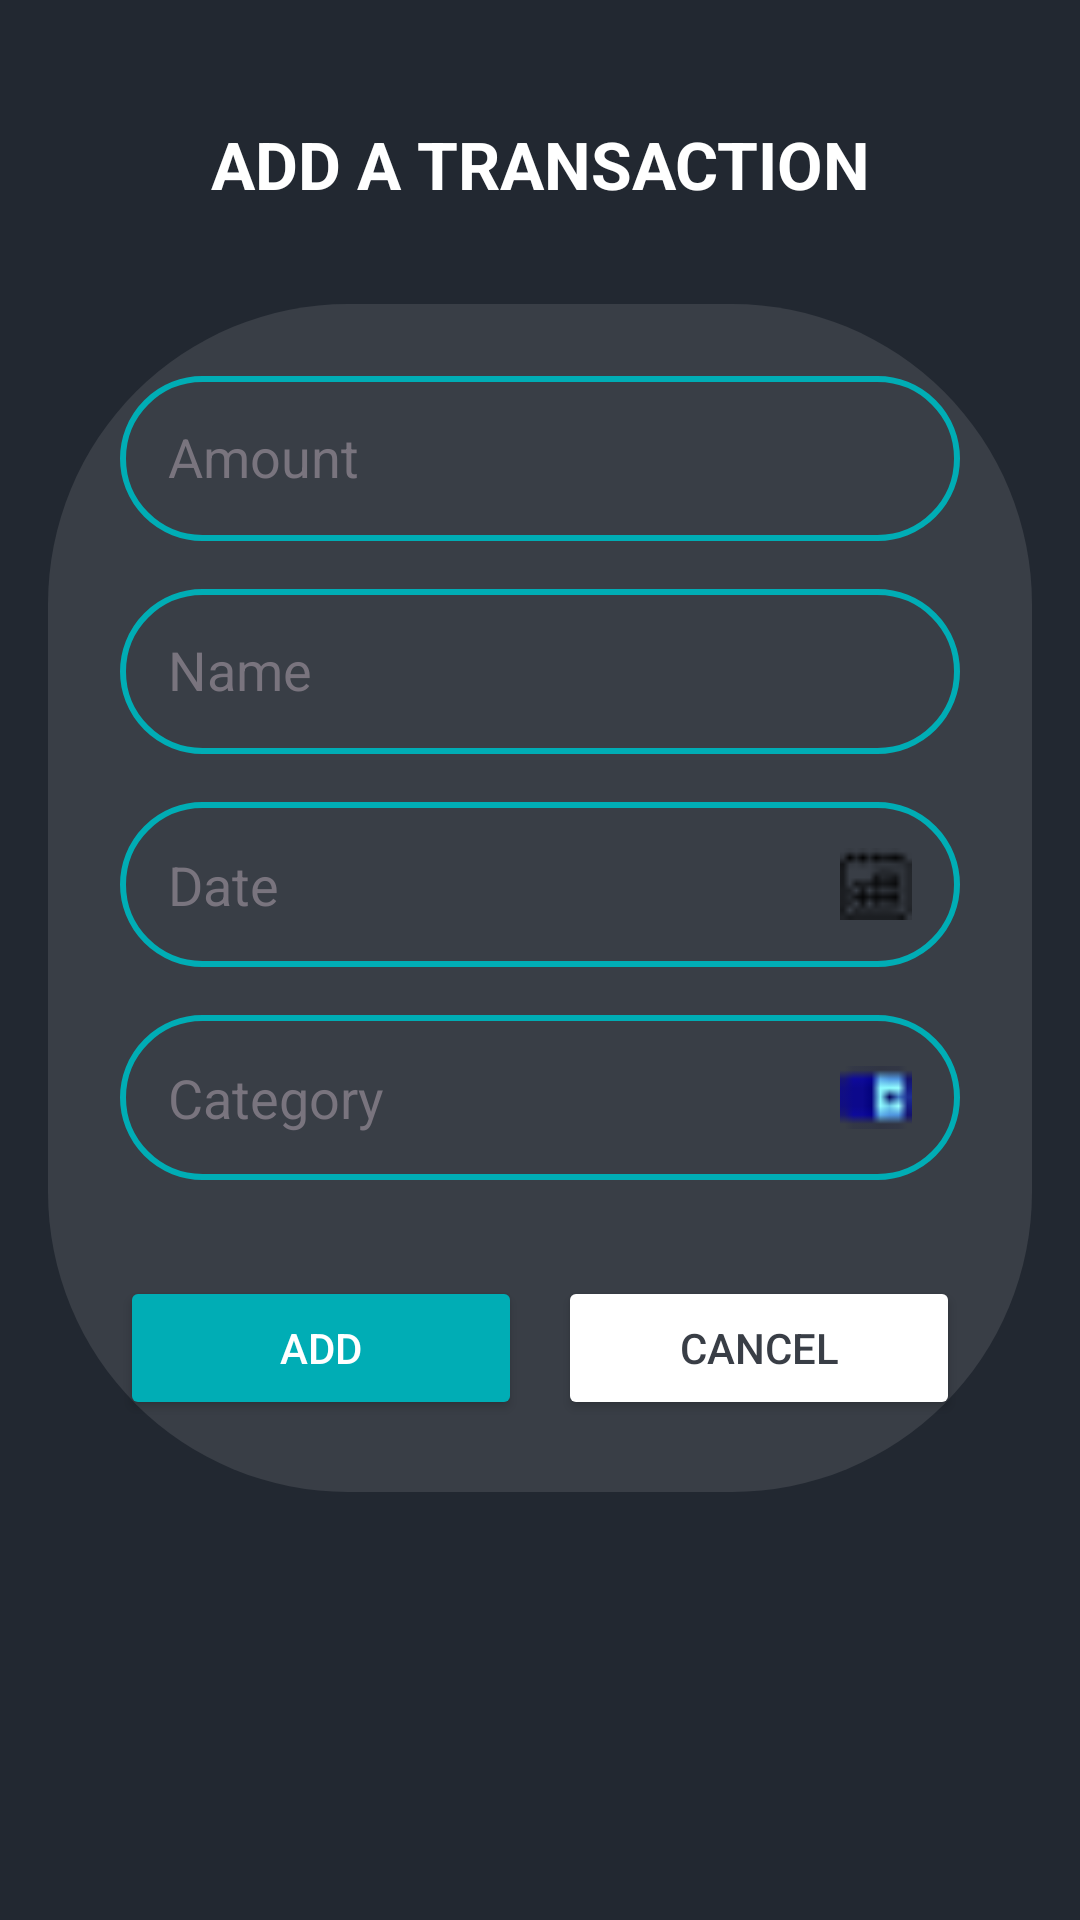

Where icons sit on this 1080*1920 app screen, as (x1, y1, x2, y2):
calendar: (840, 853, 912, 920)
